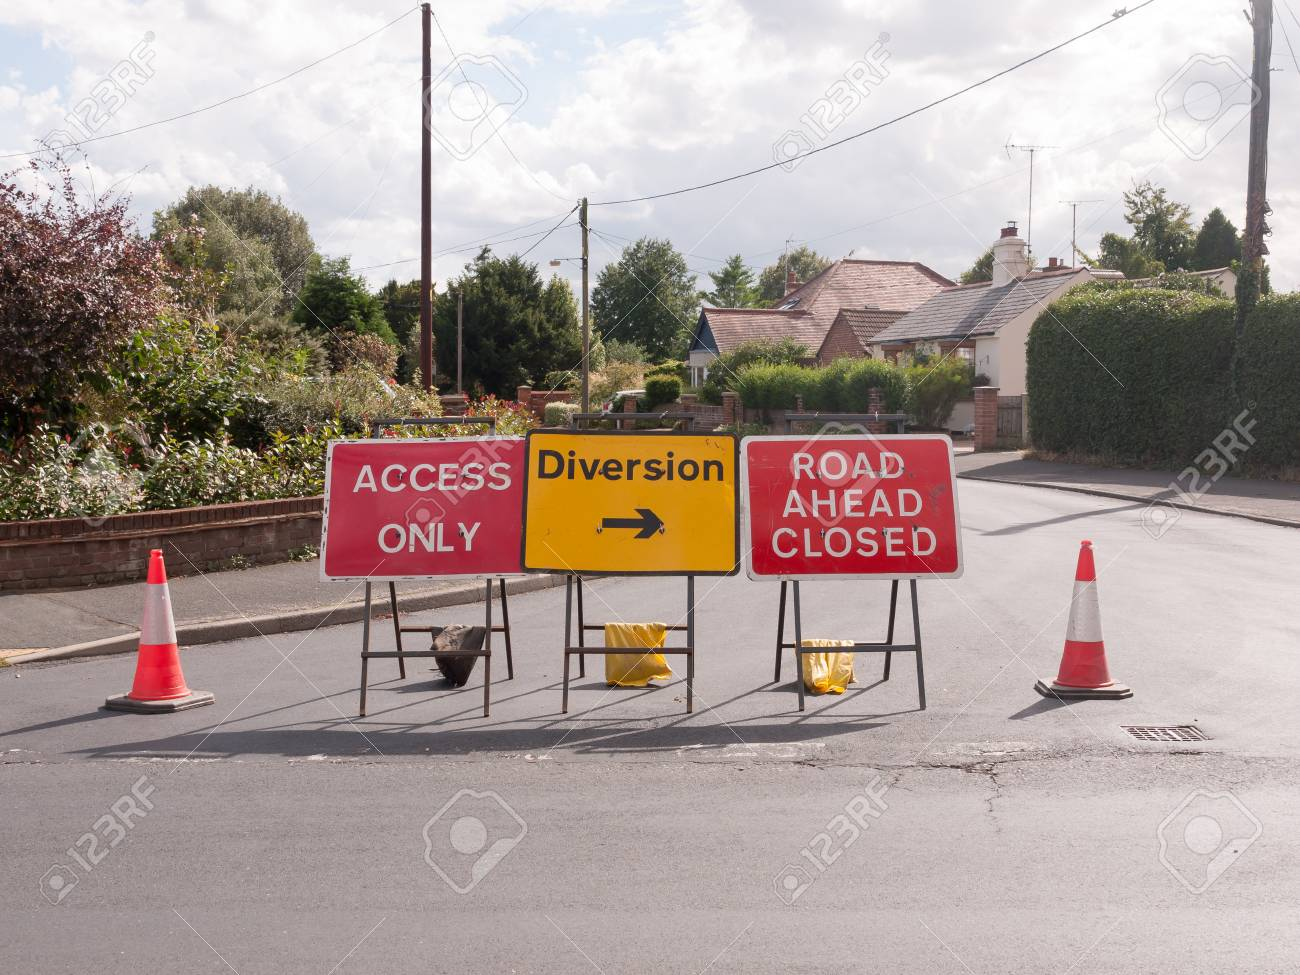cone: (97, 549, 218, 716), (1035, 537, 1128, 702)
